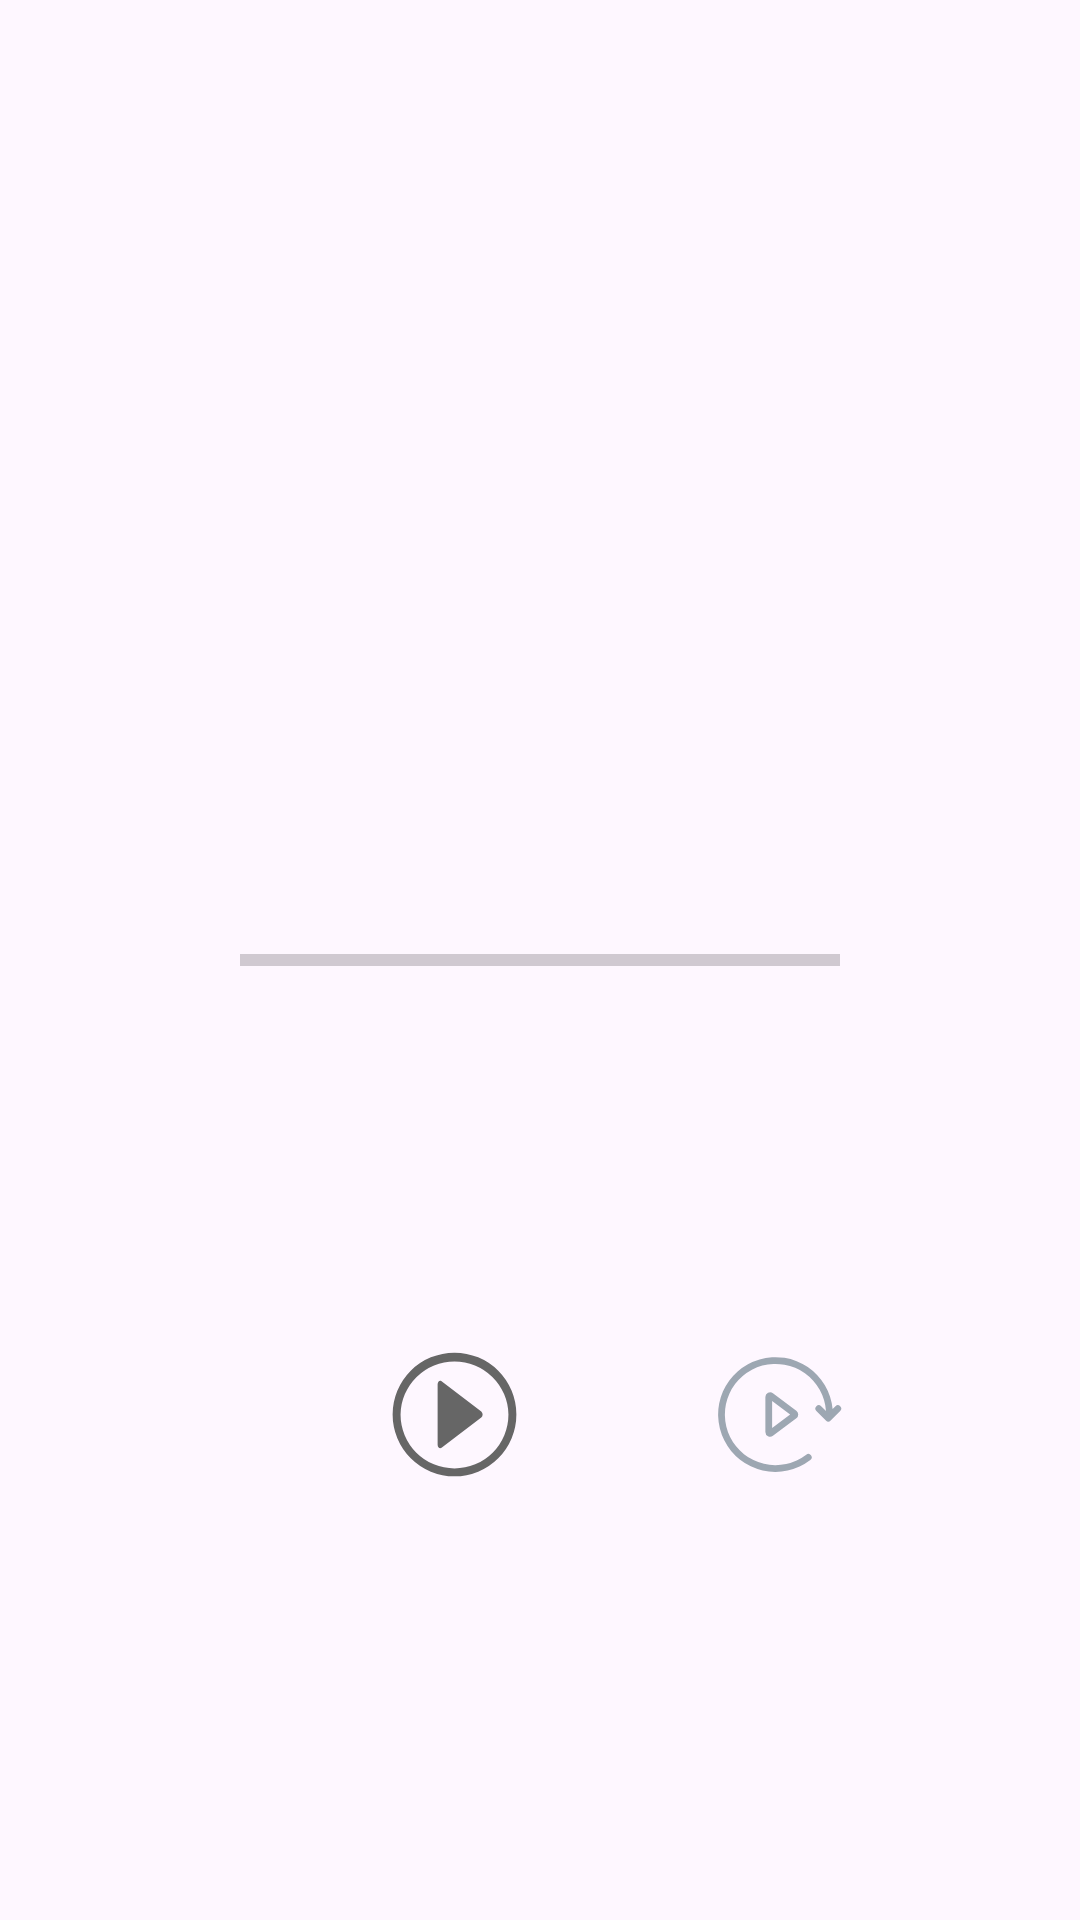

Named icons in this screenshot (1080w x 1920h) and their bounding boxes, (x1, y1, x2, y2):
restart: (718, 1357, 842, 1472)
start: (392, 1352, 517, 1477)
